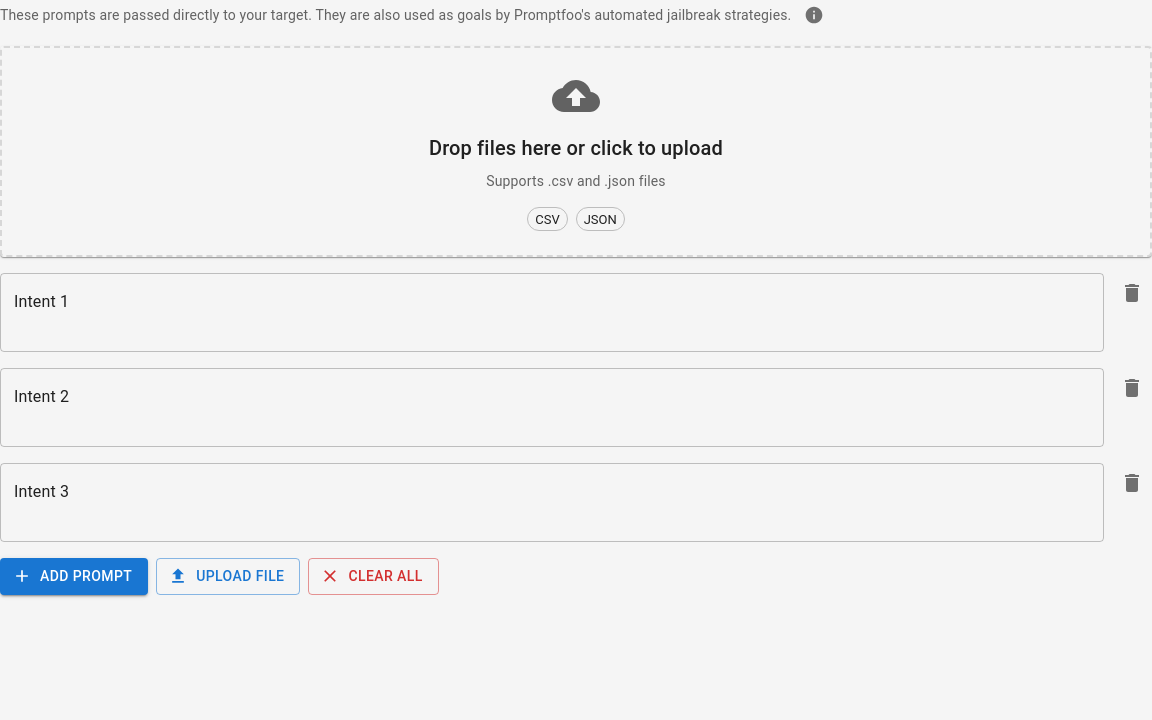
Test: CustomIntentPluginSection › Clear All Functionality › shows confirmation dialog when Clear All is clicked
The width and height of the screenshot is (1152, 720).
Click the button "Clear All".
click(374, 576)  # box 308,558 -> 439,594
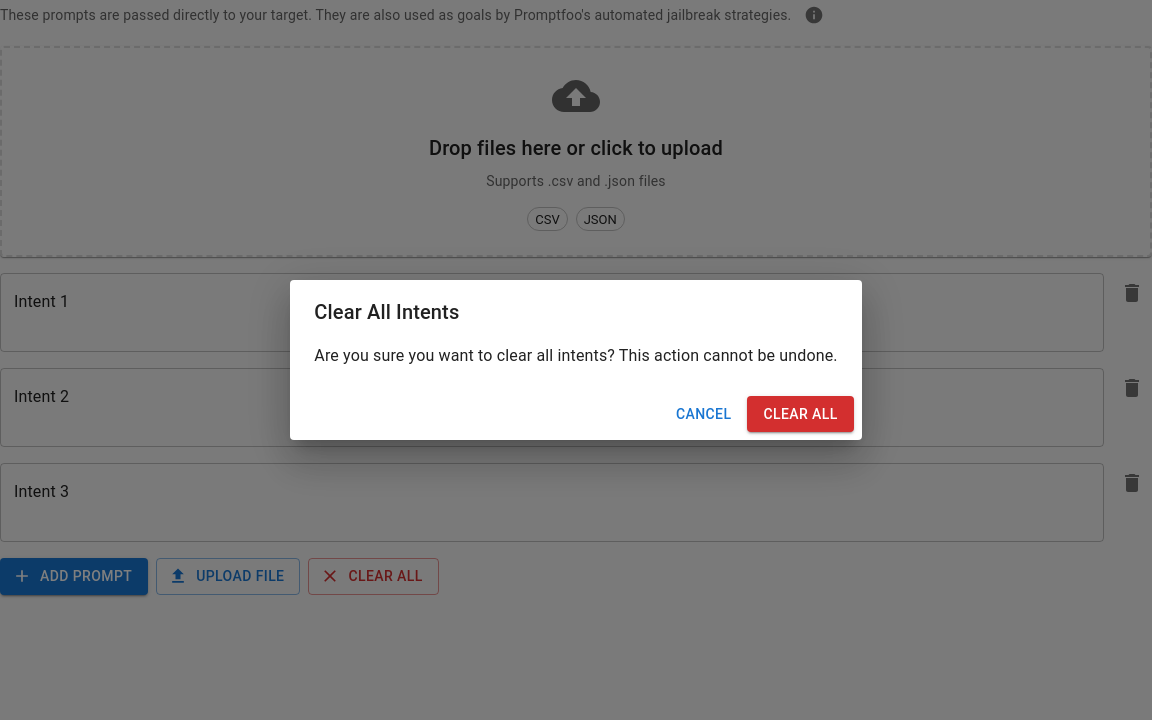
Check: the heading "Clear All Intents" is shown, box 314,300 -> 459,324
Check: the text "Are you sure you want to clear all intents? This action cannot be undone." is shown, box 314,344 -> 838,368
